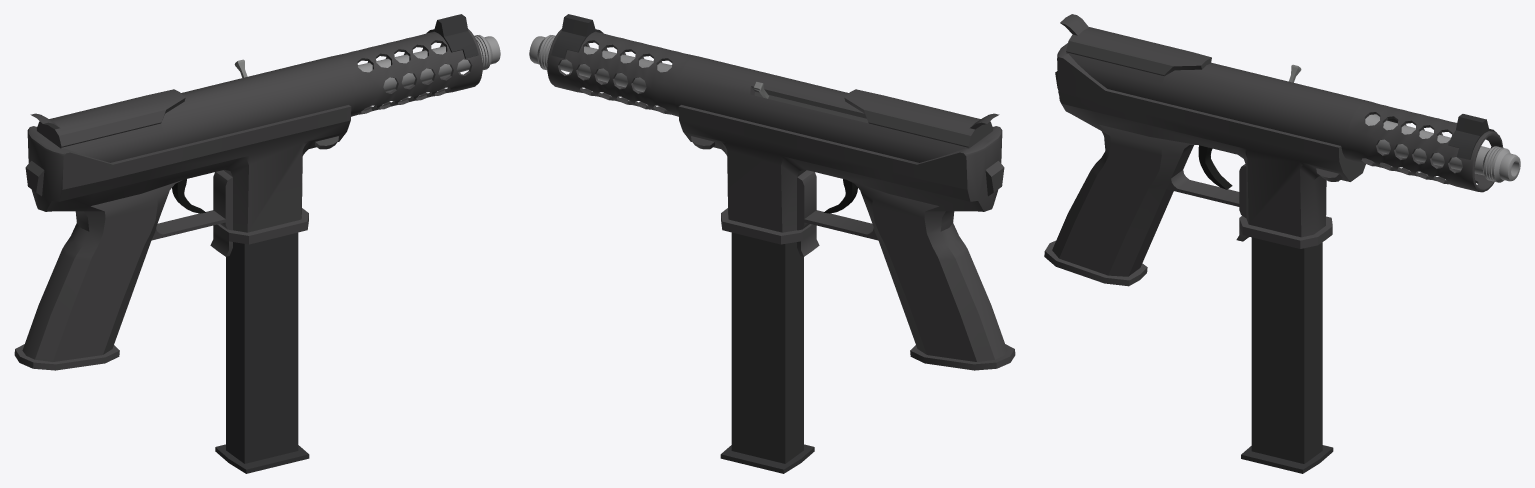
Rendered from Tec_9_Mesh.fbx.
3 views of the same model, side by side, from view 1: azimuth 30°, elevation 25°; view 2: azimuth 150°, elevation 25°; view 3: azimuth 330°, elevation 25° (orthographic). The views are drawn at different scales.
Visible parts, largest first — view 1: Tec_9; view 2: Tec_9; view 3: Tec_9.
Part boxes in pixels (x1,y1,x2,y2): Tec_9: (14, 14, 500, 473); Tec_9: (529, 14, 1015, 473); Tec_9: (1044, 14, 1520, 473).
Size of the model in its own units: 0.3953 by 0.3113 by 0.0522.
